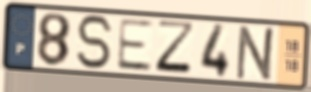4: (198, 21, 233, 81)
8: (35, 11, 73, 69)
E: (114, 16, 155, 73)
N: (234, 24, 280, 84)
S: (75, 13, 117, 72)
Z: (153, 18, 198, 78)
